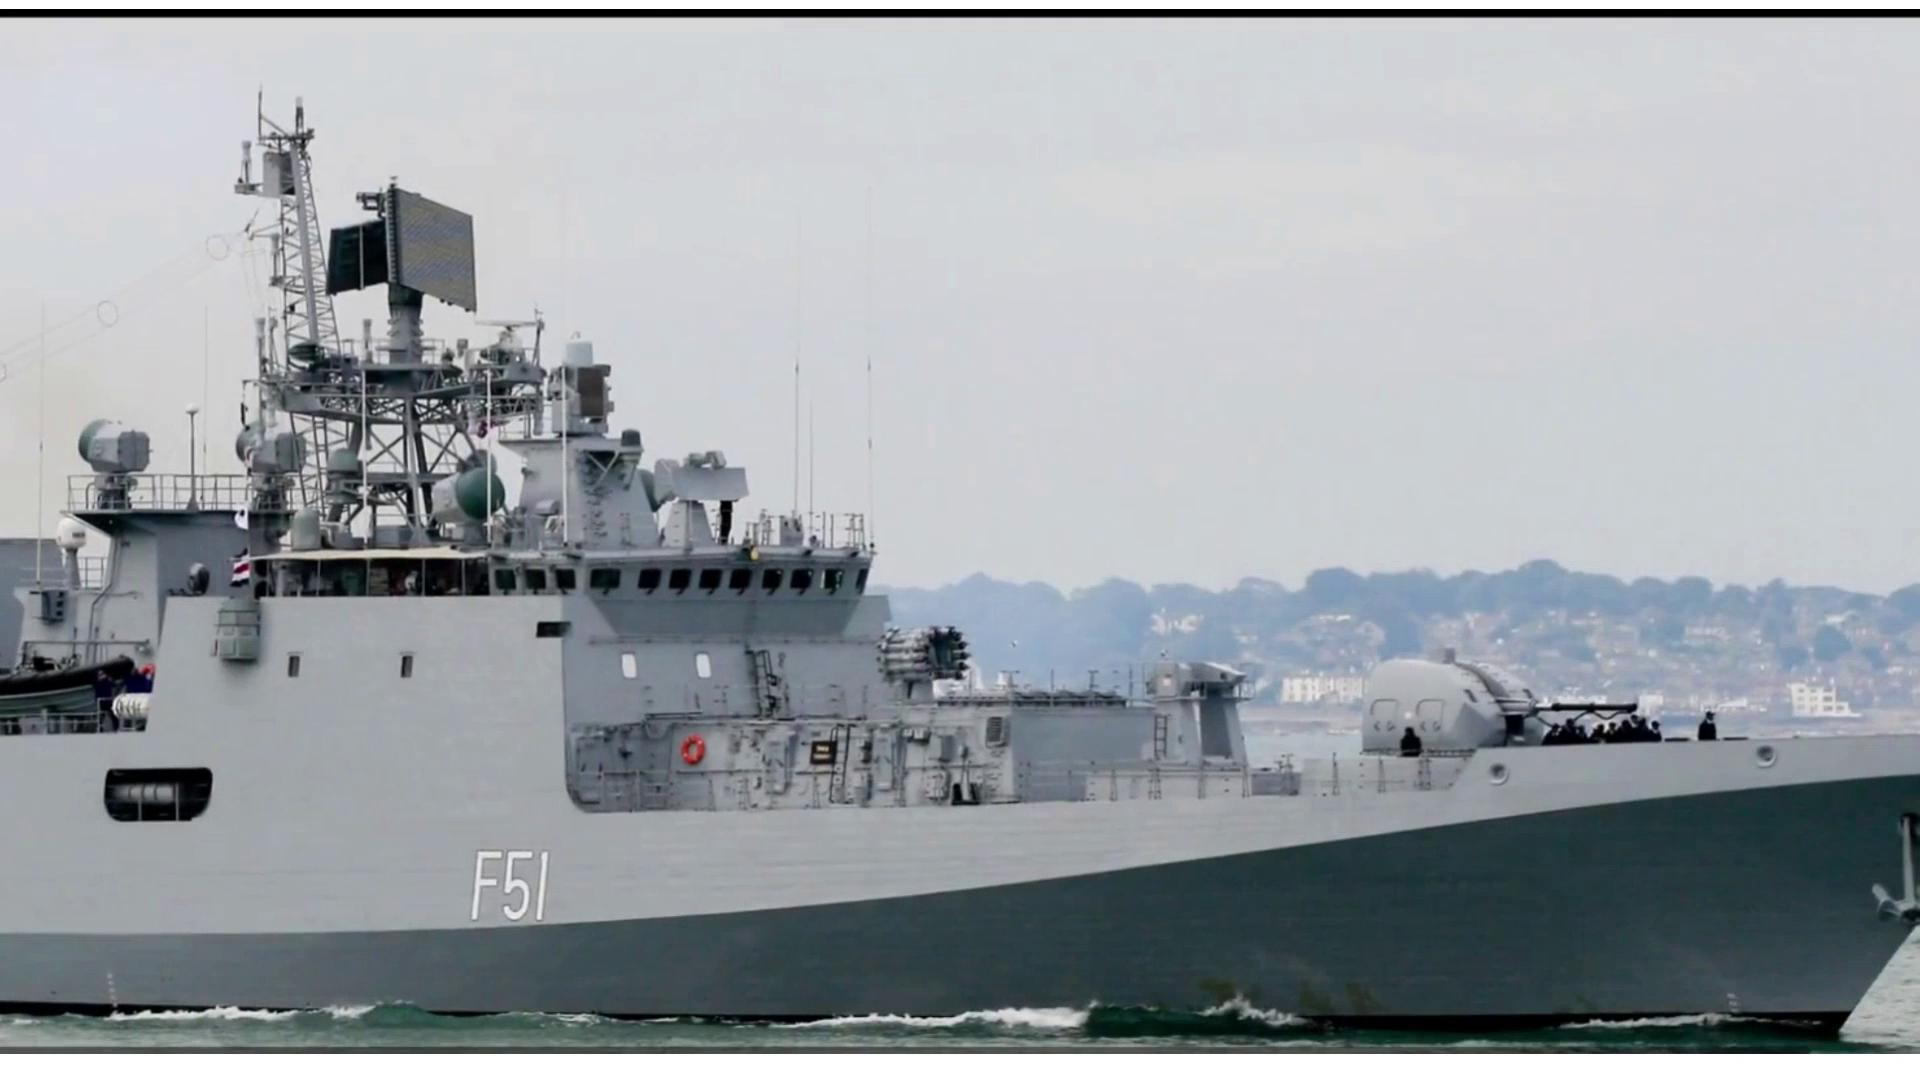OCR: (463, 843, 564, 932)
